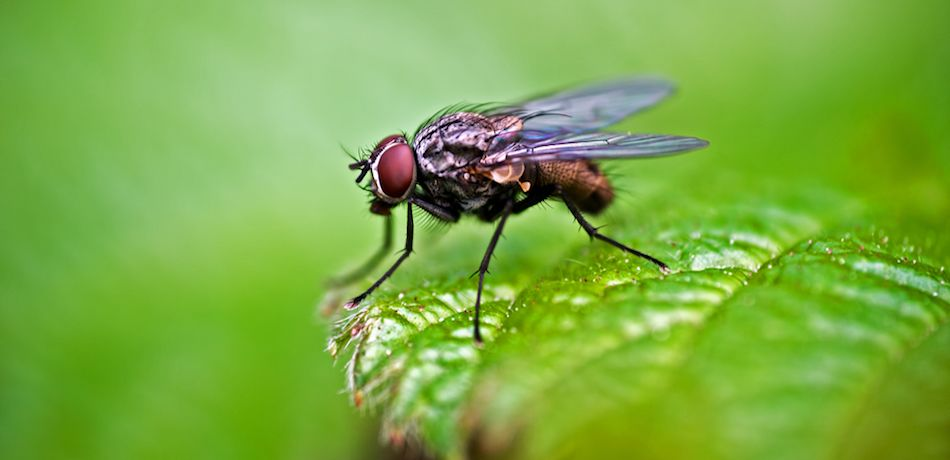fly: (345, 62, 712, 342)
